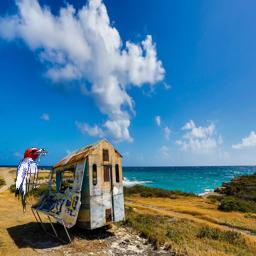Woodpecker: (15, 147, 49, 214)
